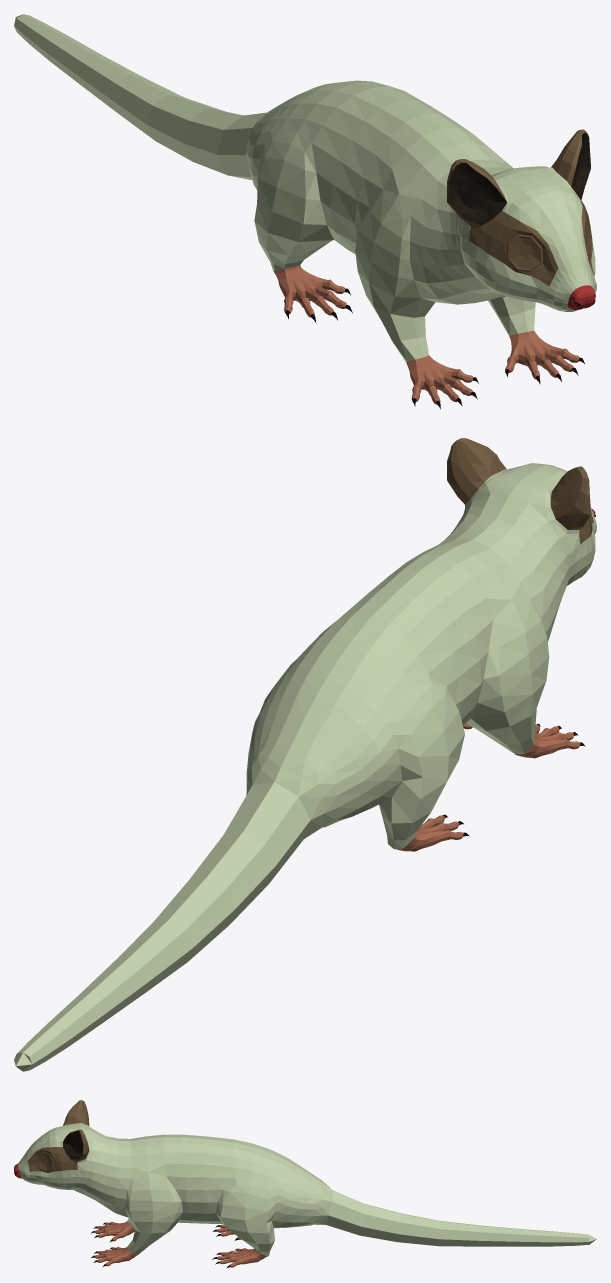
The model's file is sugar_glider_sugar_glider_triangulated.obj.
3 views of the same model, one above another, from view 1: azimuth 30°, elevation 25°; view 2: azimuth 150°, elevation 25°; view 3: azimuth 270°, elevation 25° (orthographic). The views are drawn at different scales.
Bounding box in the file's own units: 0.0566 × 0.0768 × 0.3091.
